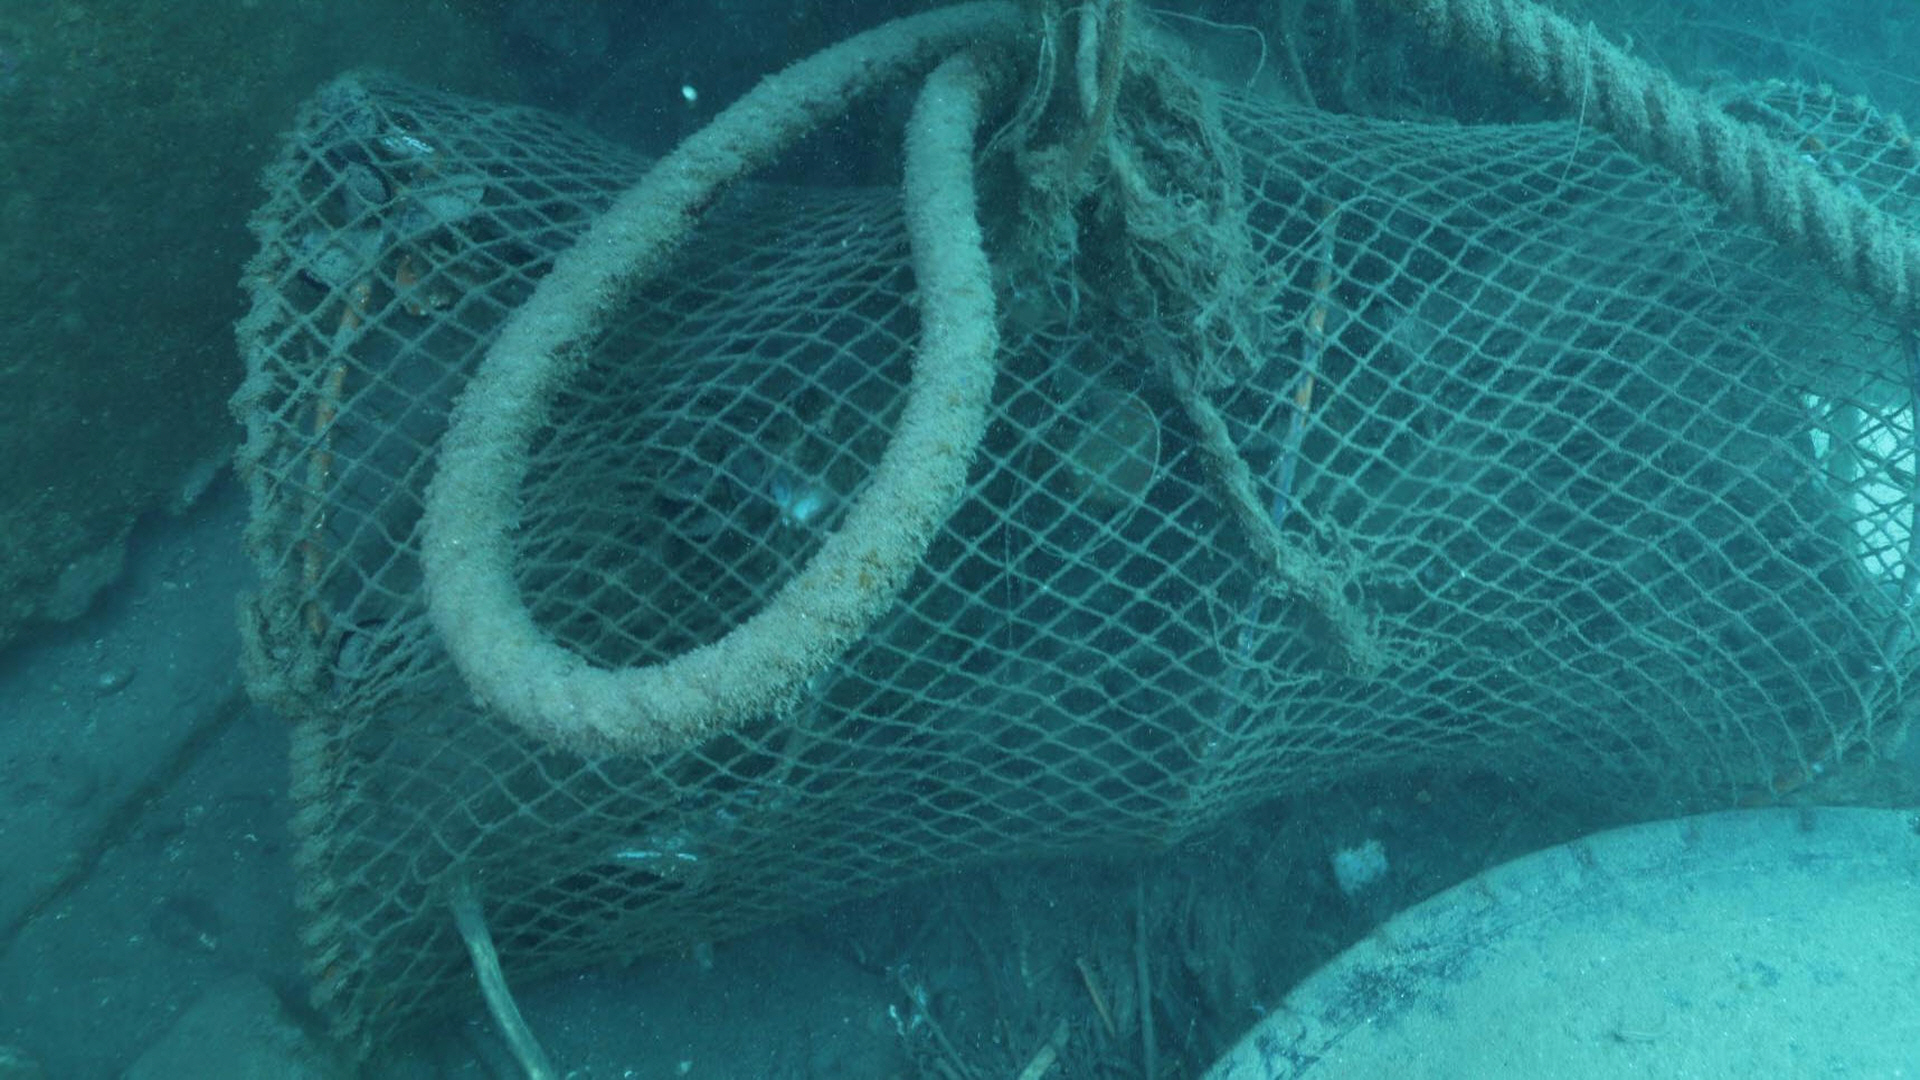rope: (415, 0, 998, 760), (1352, 1, 1920, 315)
spring fish trap: (229, 65, 1920, 1080)
